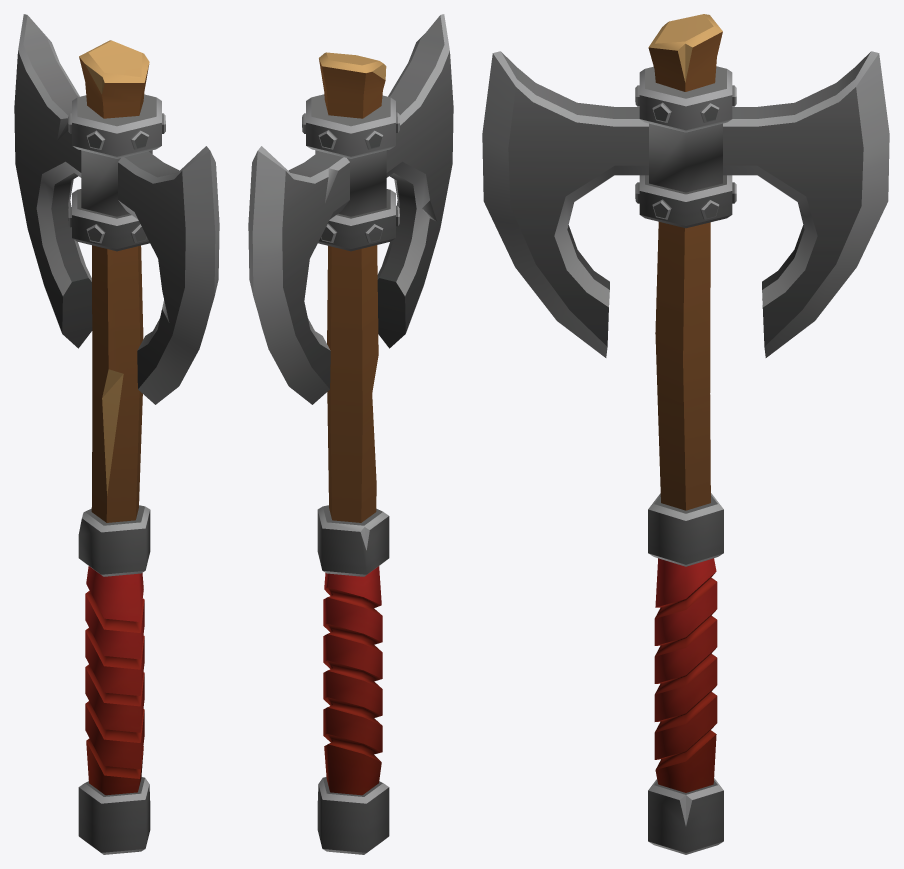
Rendered from BattleAxe_2_1_B.glb.
The picture shows the model from 3 angles, left to right: view 1: azimuth 30°, elevation 25°; view 2: azimuth 150°, elevation 25°; view 3: azimuth 270°, elevation 25°; orthographic projection. The views are drawn at different scales.
Visible parts, largest first — view 1: BattleAxe_2_1_B; view 2: BattleAxe_2_1_B; view 3: BattleAxe_2_1_B.
Boxes of the visible parts, x1,y1,x2,y2 form: BattleAxe_2_1_B: (14, 14, 219, 854); BattleAxe_2_1_B: (248, 14, 453, 854); BattleAxe_2_1_B: (482, 14, 889, 854).
Bounding box in the file's own units: 0.1579 × 1.33 × 0.5993.
Materials: 2 (2 with a texture image).
